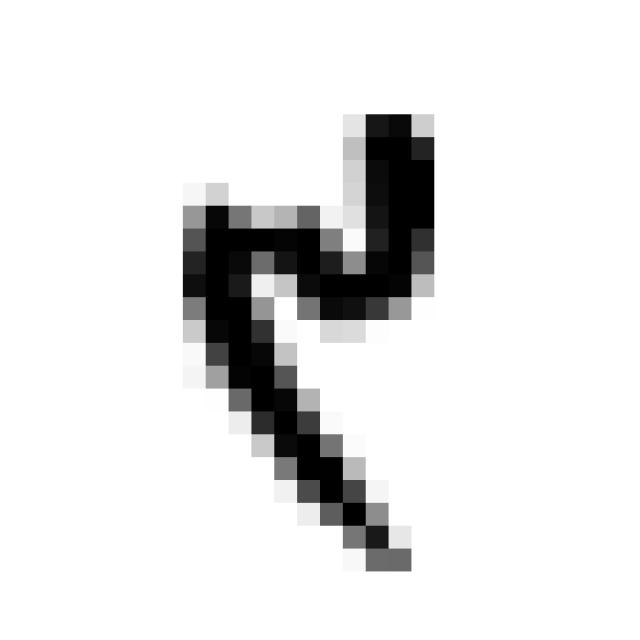3 -three-: (162, 89, 456, 585)
